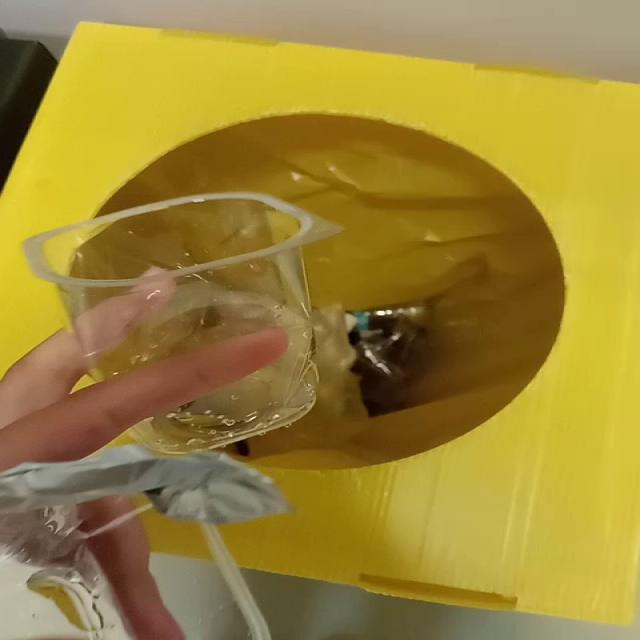plastic: (23, 193, 341, 454)
